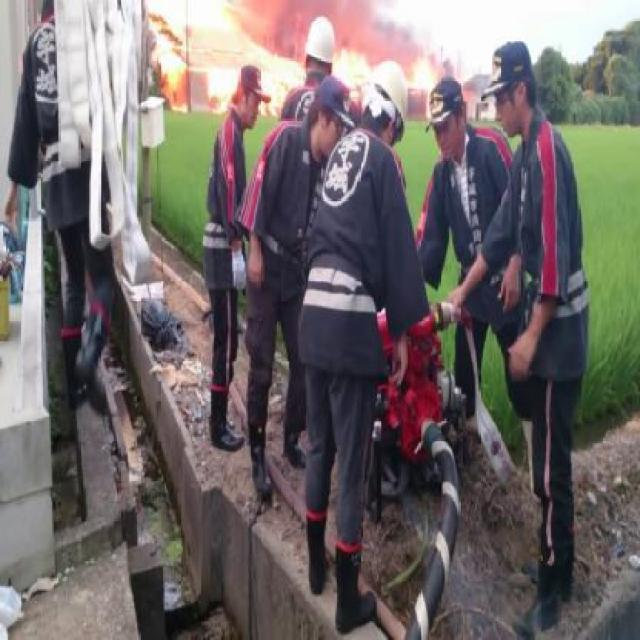Fire: (139, 2, 257, 100), (256, 49, 306, 115), (333, 46, 372, 85), (411, 54, 438, 88)
